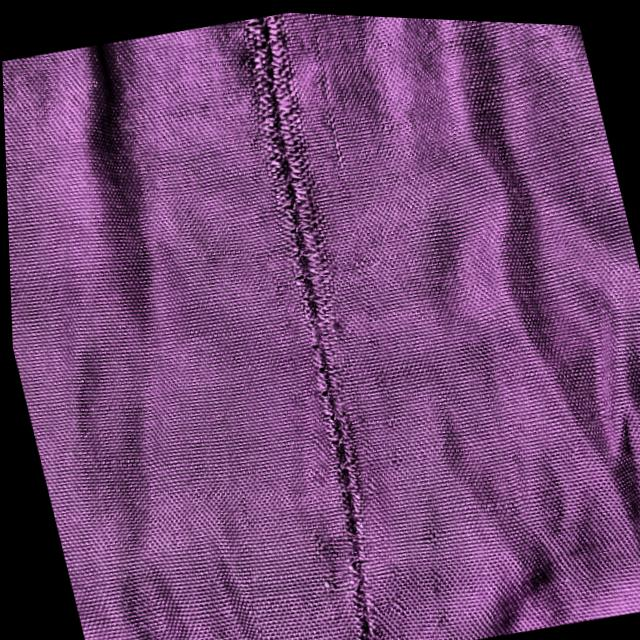seam: (214, 7, 412, 532)
